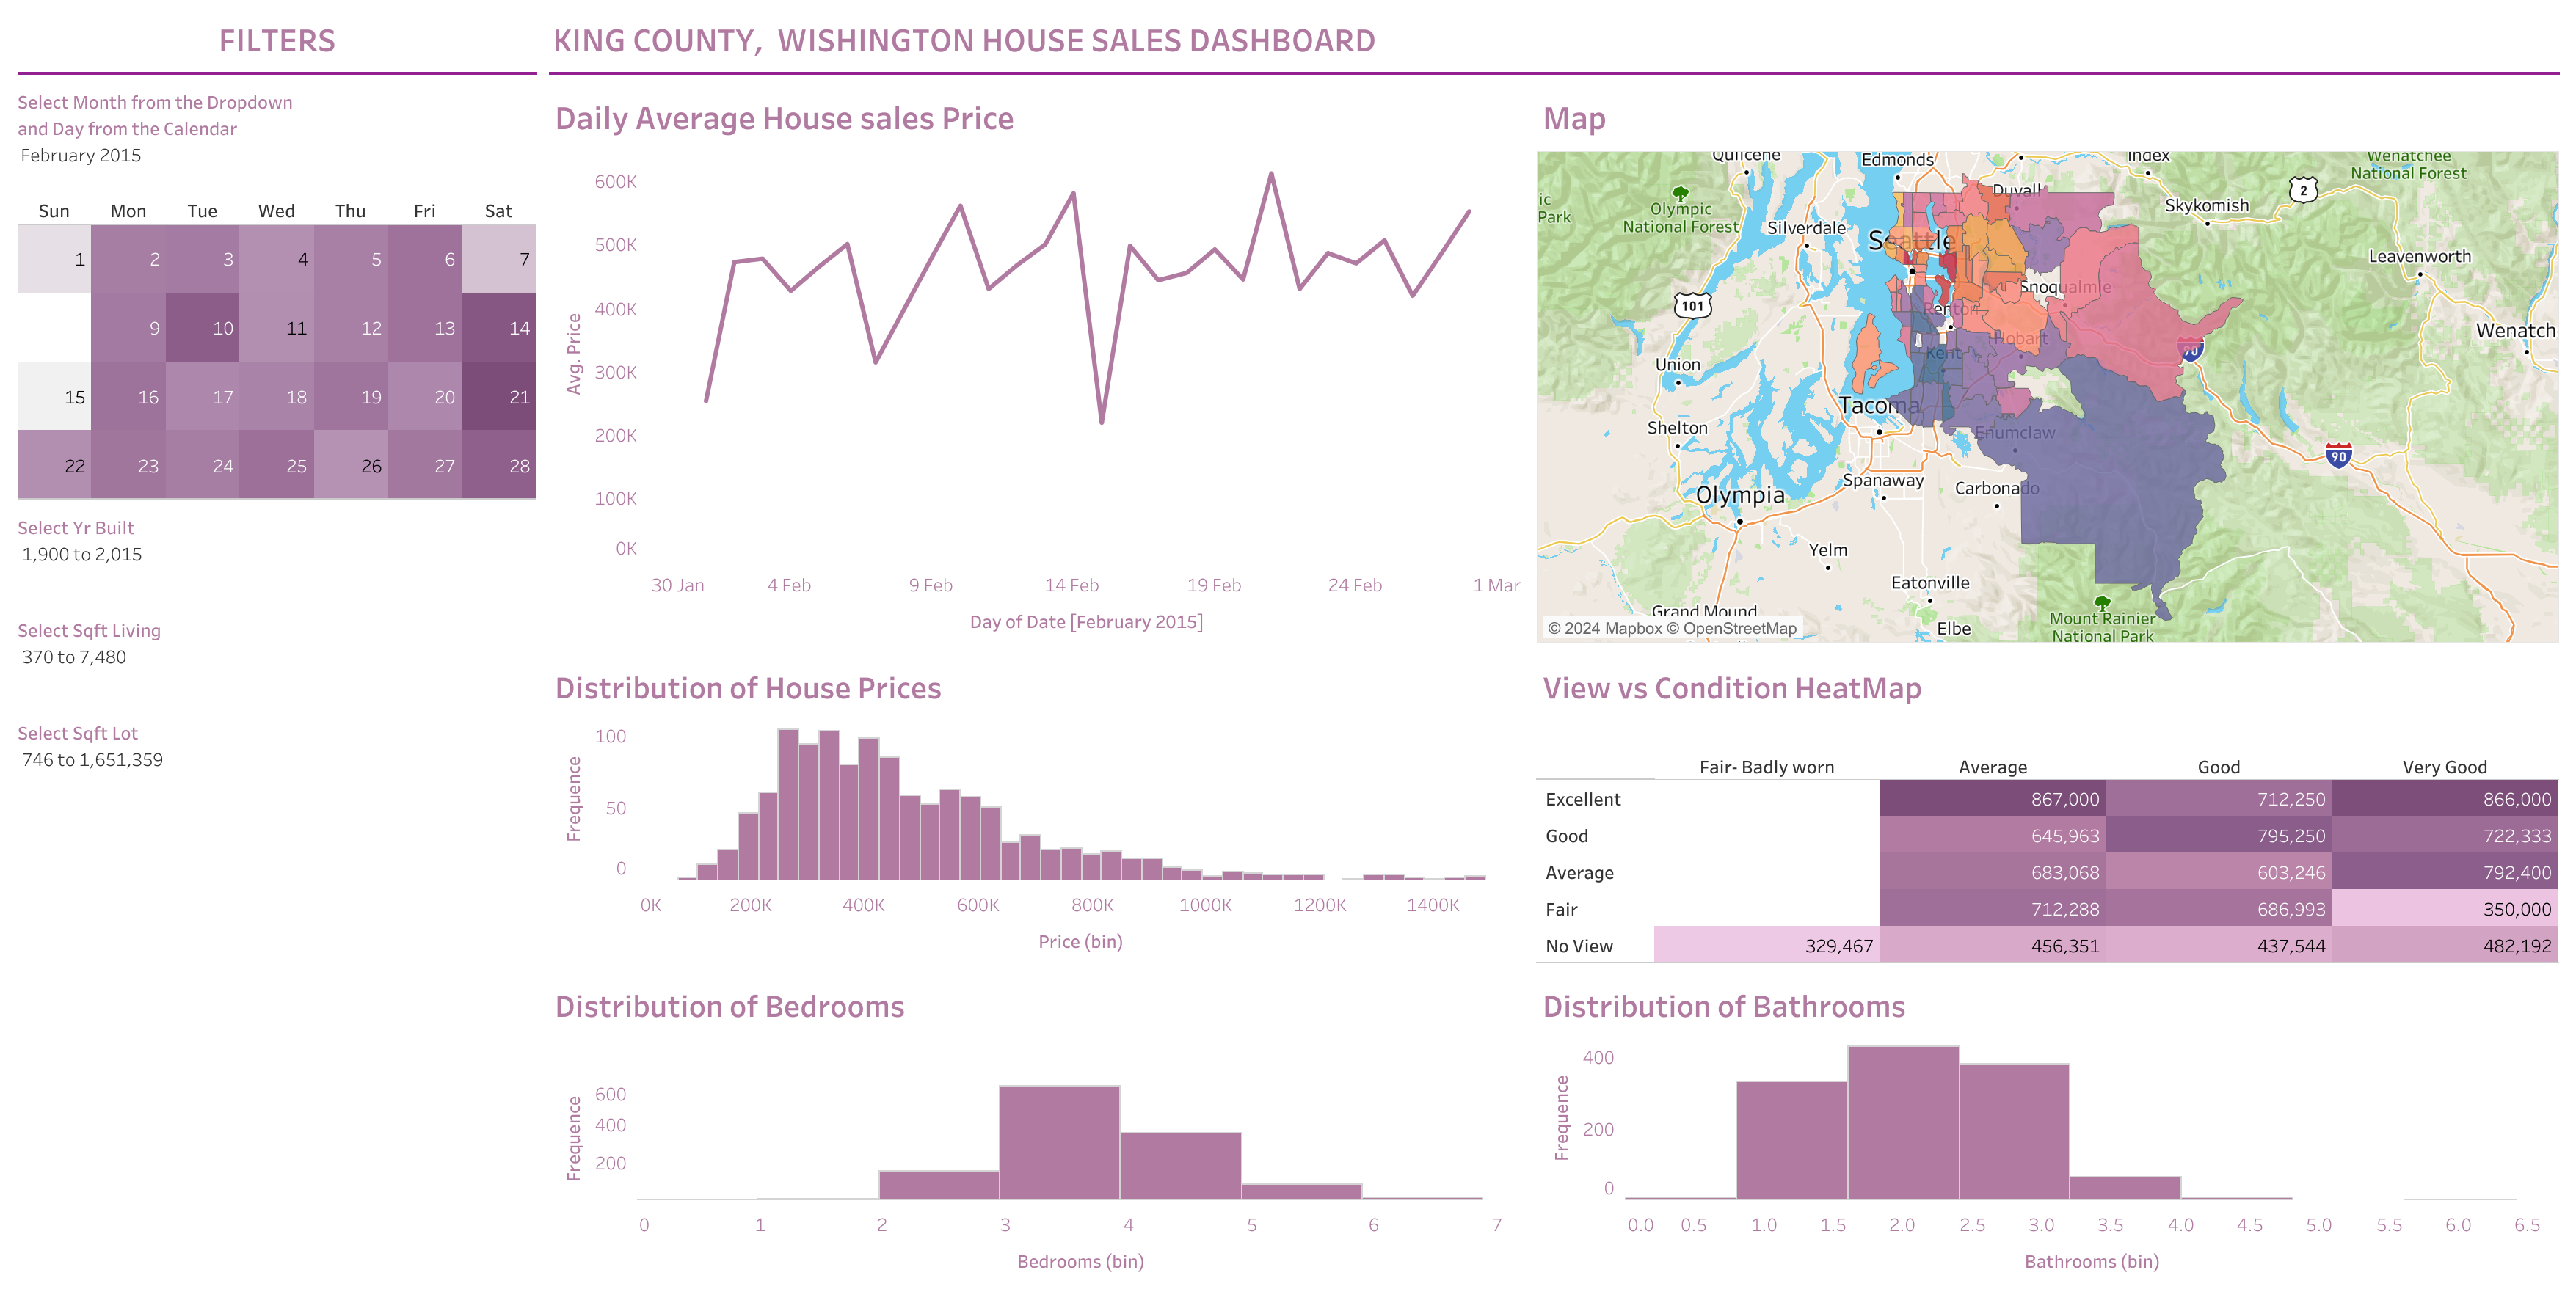

What the dashboard file says about the page in this screenshot:
{"tool":"tableau","page":{"name":"KingCountyDashBoard","canvas":[1000,1000],"units":"permille","ordinal":0},"visuals":[{"type":"text","box":[5.1,8.1,206.2,37.5]},{"type":"text","box":[211.3,8.1,783.7,37.5]},{"type":"blank","box":[5.1,45.6,206.2,10.1]},{"type":"blank","box":[211.3,45.6,783.7,10.1]},{"type":"filter","title":"Calender","param":"[federated.0liqaah0v1ytjc14kgx8v03stes2].[my:date:ok]","box":[5.1,55.7,206.2,69.8]},{"type":"worksheet","title":"Line Chart","mark":"Automatic","rows":["price"],"cols":["date"],"box":[211.3,55.7,382.7,444.3]},{"type":"worksheet","title":"MAP","mark":"Automatic","box":[593.9,55.7,401,444.3]},{"type":"worksheet","title":"Calender","mark":"Square","rows":["date"],"cols":["date"],"box":[5.1,125.5,206.2,218.6]},{"type":"filter","title":"Calender","param":"[federated.0liqaah0v1ytjc14kgx8v03stes2].[none:yr_built:qk]","box":[5.1,344.1,206.2,51.6]},{"type":"filter","title":"Calender","param":"[federated.0liqaah0v1ytjc14kgx8v03stes2].[none:sqft_living:qk]","box":[5.1,395.8,206.2,51.6]},{"type":"filter","title":"Calender","param":"[federated.0liqaah0v1ytjc14kgx8v03stes2].[none:sqft_lot:qk]","box":[5.1,447.4,206.2,51.6]},{"type":"worksheet","title":"Hist House Price","mark":"Automatic","rows":["price"],"cols":["Price (bin)"],"box":[211.3,500,382.7,246]},{"type":"worksheet","title":"HeatMap","mark":"Square","rows":["view"],"cols":["condition"],"box":[593.9,500,401,246]},{"type":"worksheet","title":"HistBedroom","mark":"Automatic","rows":["bedrooms"],"cols":["Bedrooms (bin)"],"box":[211.3,746,382.7,246]},{"type":"worksheet","title":"HistBathrooms","mark":"Automatic","rows":["bathrooms"],"cols":["Bathrooms (bin)"],"box":[593.9,746,401,246]}]}

Visuals, with their boxes on the dashboard's canvas, which has no fixed pixel size, in thousandths of its width and height (x1, y1, x2, y2). These are canvas units, not pixel positions in the 2576x1300 screenshot, which may show the page scaled, cropped or inside an application window:
text: l=5, t=8, r=211, b=46
text: l=211, t=8, r=995, b=46
blank: l=5, t=46, r=211, b=56
blank: l=211, t=46, r=995, b=56
"Calender" filter: l=5, t=56, r=211, b=126
"Line Chart" worksheet: l=211, t=56, r=594, b=500
"MAP" worksheet: l=594, t=56, r=995, b=500
"Calender" worksheet (Square marks): l=5, t=126, r=211, b=344
"Calender" filter: l=5, t=344, r=211, b=396
"Calender" filter: l=5, t=396, r=211, b=447
"Calender" filter: l=5, t=447, r=211, b=499
"Hist House Price" worksheet: l=211, t=500, r=594, b=746
"HeatMap" worksheet (Square marks): l=594, t=500, r=995, b=746
"HistBedroom" worksheet: l=211, t=746, r=594, b=992
"HistBathrooms" worksheet: l=594, t=746, r=995, b=992
